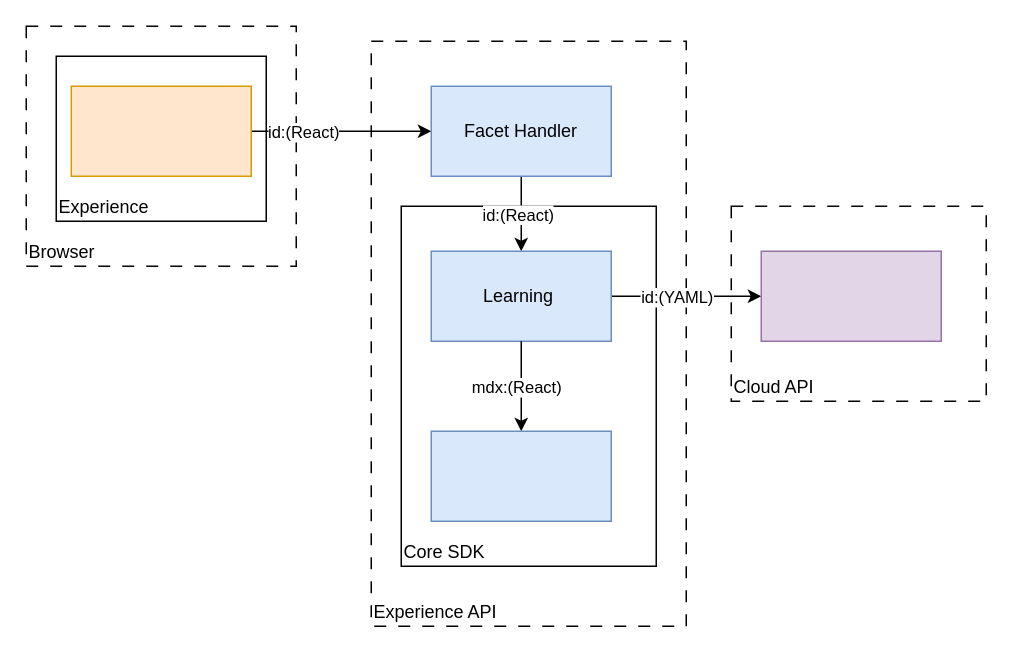
Some shapes in this 1013 by 653 pixel diagram are drawn without their labels. Here are the shapes that lost their labels. From the top down, the centre of each, then its label:
At [160,130]: "Facet Component".
At [850,295]: "Editorial Service".
At [520,475]: "ContentKit".
